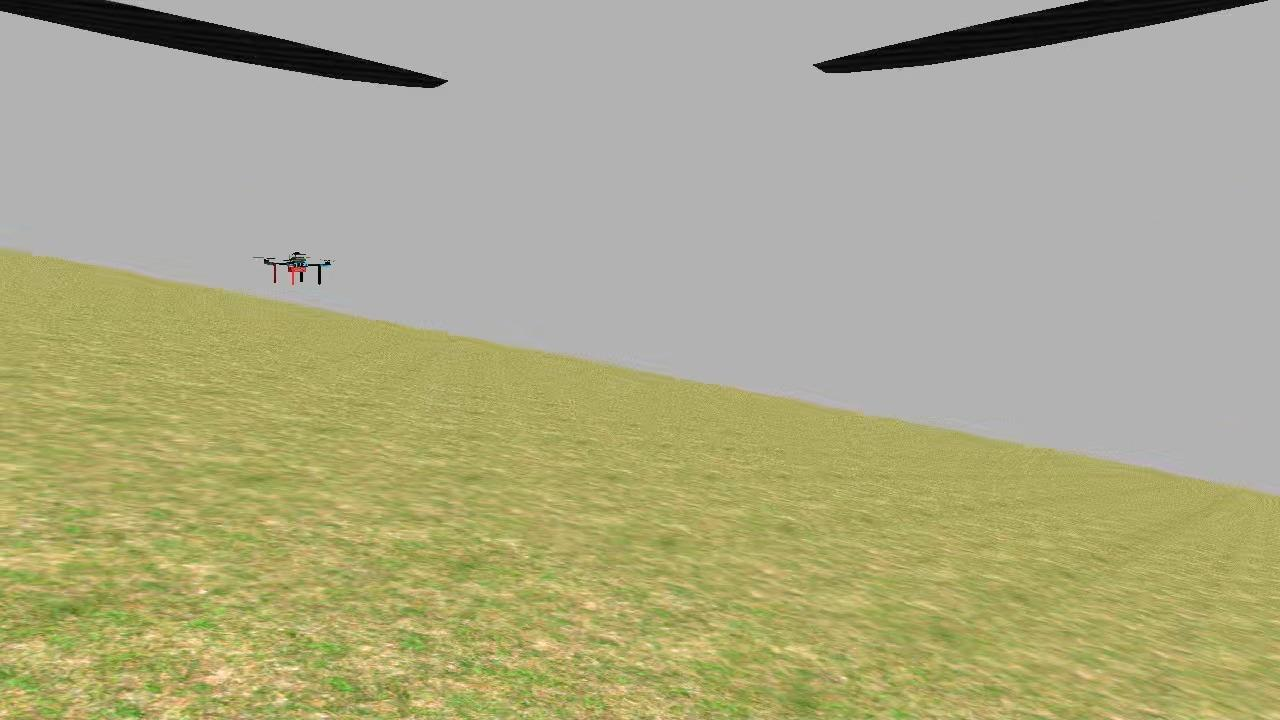UAV: (256, 248, 341, 300)
